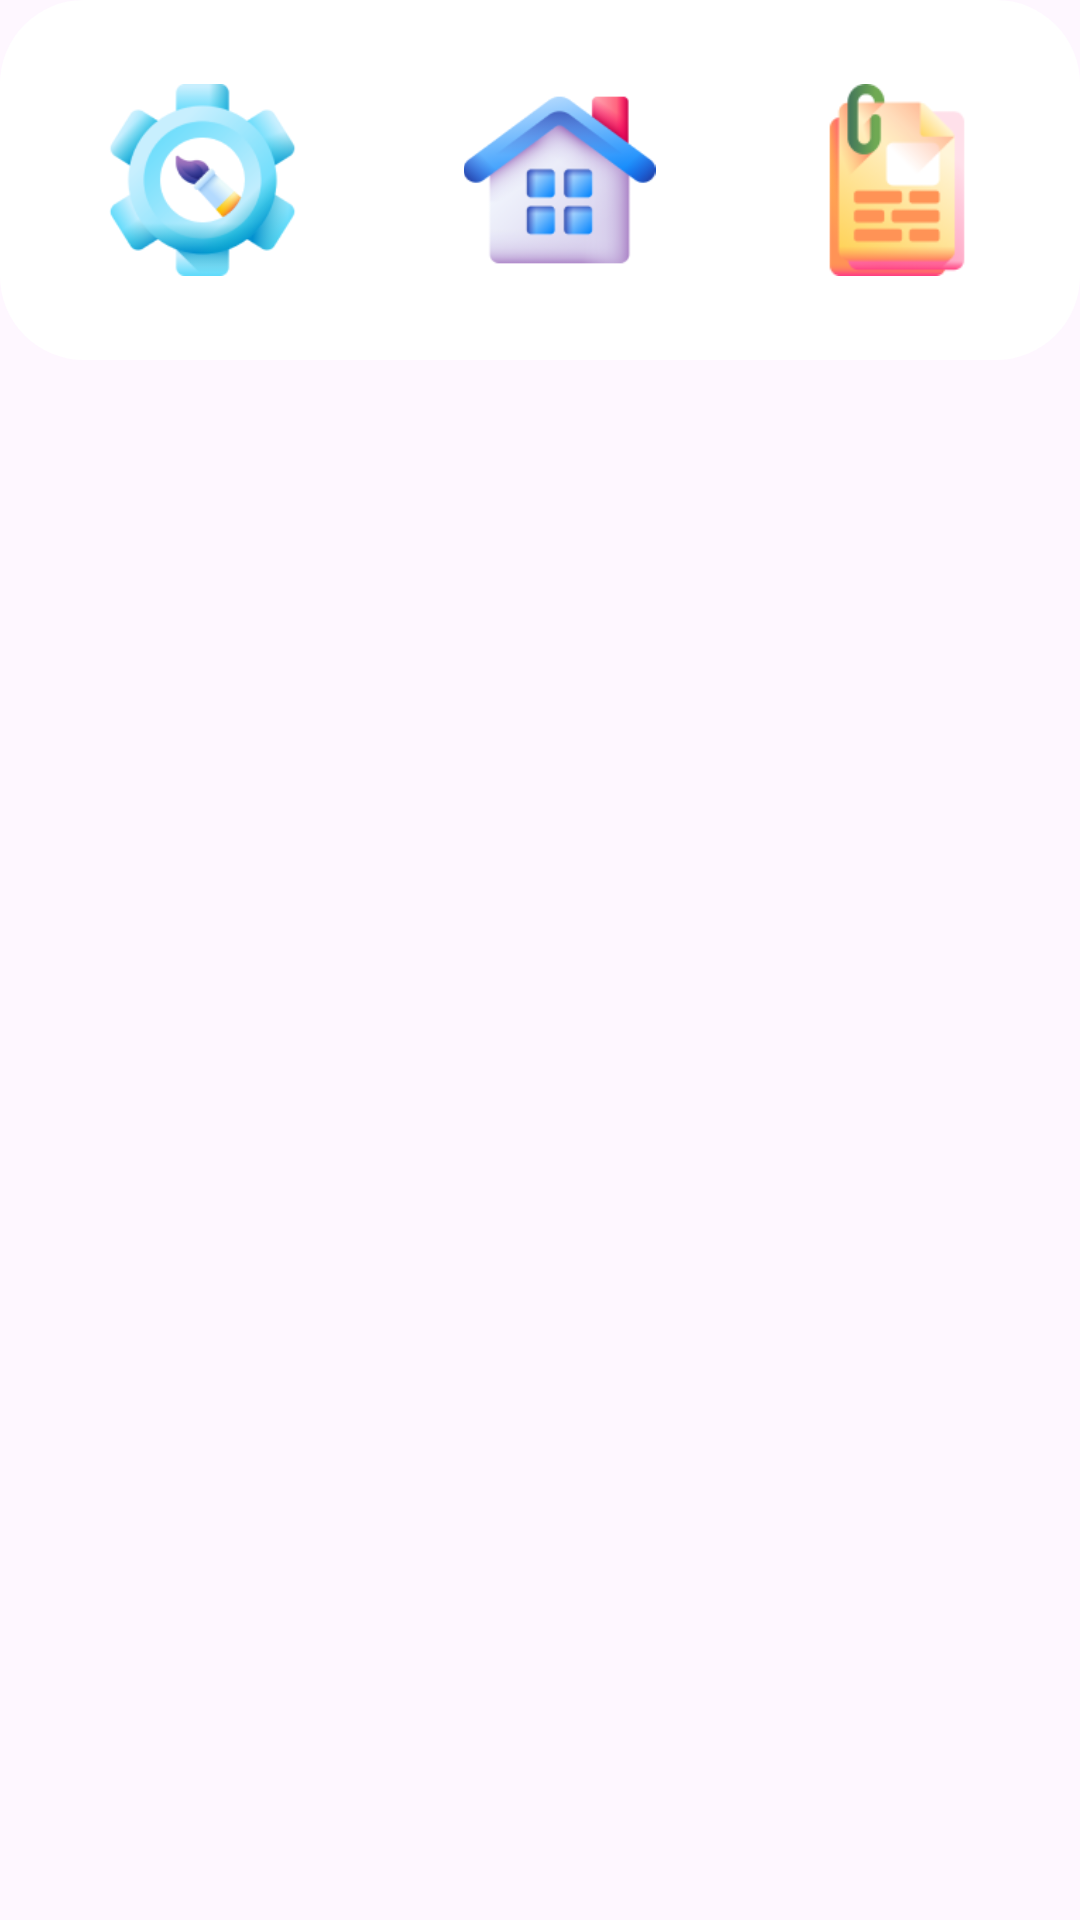

Icon bounding boxes for this 1080w x 1920h phone screenshot, format (x1, y1, x2, y2):
brief: (829, 84, 964, 276)
customization: (110, 84, 295, 276)
house: (464, 96, 656, 264)
